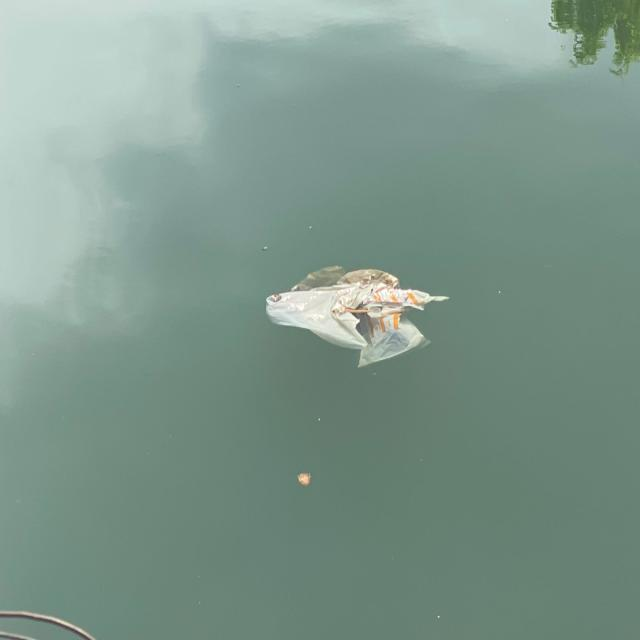Kantong Plastik: (260, 255, 455, 370)
